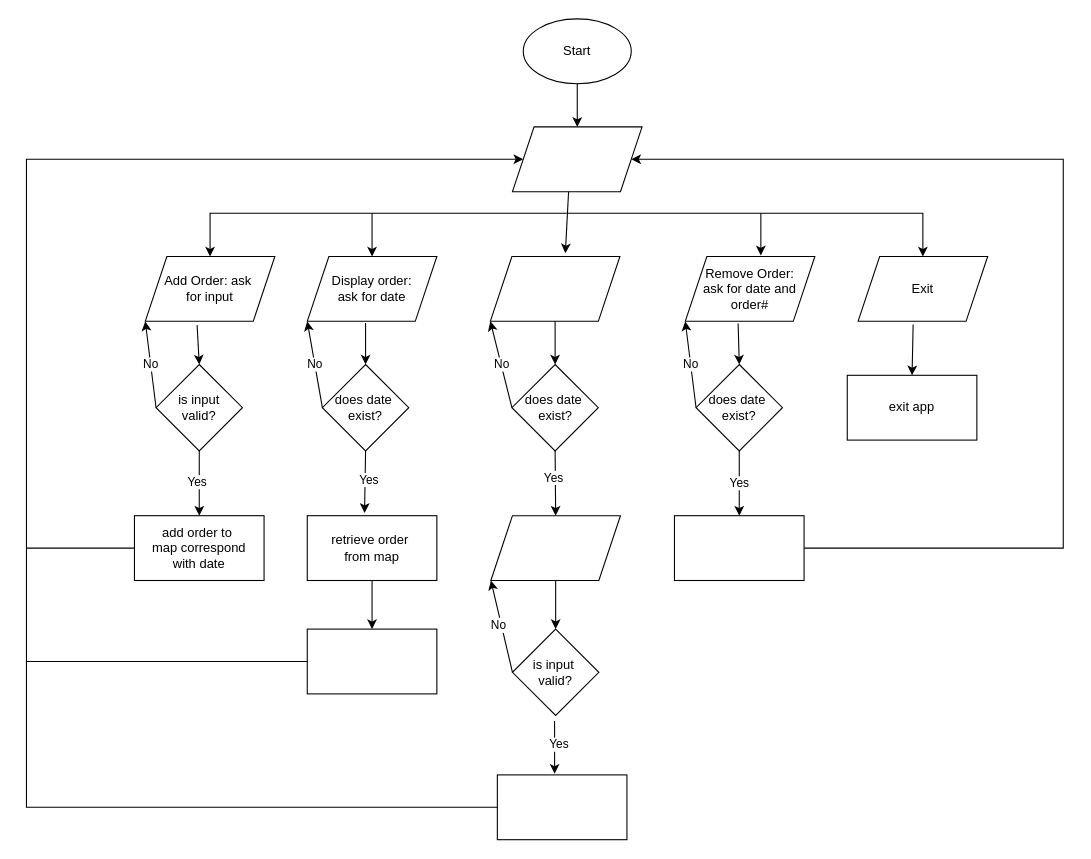
Image size: 1091x859. Some labels were removed from this diagram. The shapes that lost their labels are listed below. From the top down, each one's centre as x and y in pixels, then its label:
(576,159): Prompt user for choice
(554,288): Edit Order: ask for date
(555,547): ask for info to change to
(738,547): remove item from map
(371,661): display order
(561,807): update info for order
